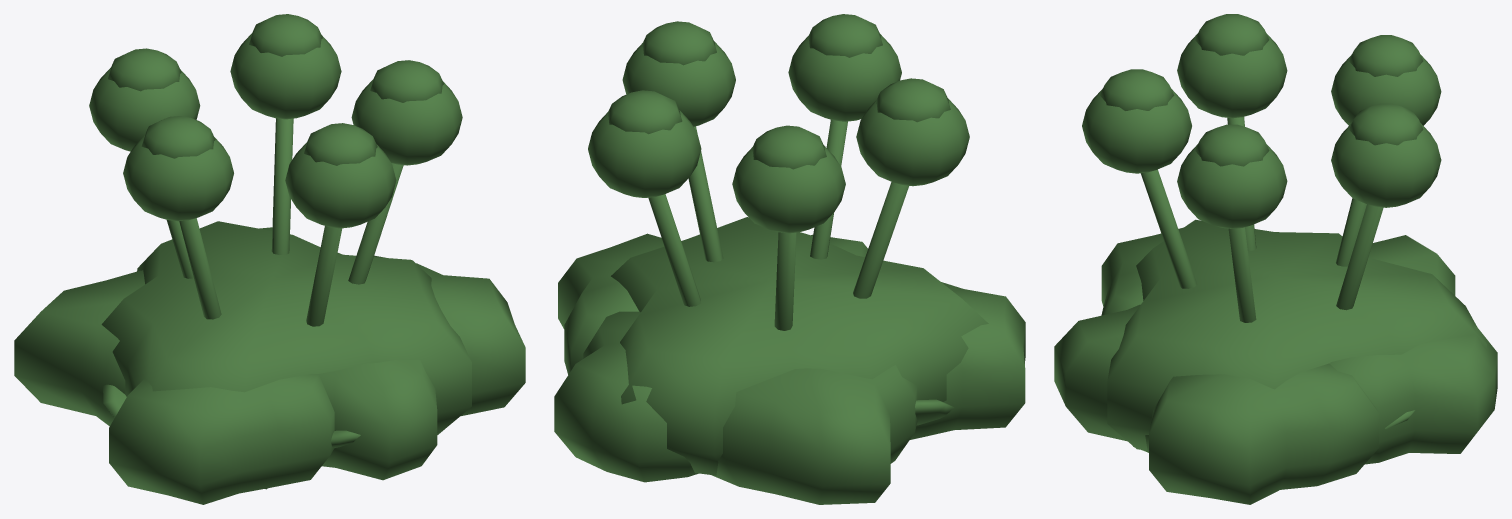
File: flowers_06.glb
3 views of the same model, side by side, from view 1: azimuth 30°, elevation 25°; view 2: azimuth 150°, elevation 25°; view 3: azimuth 270°, elevation 25° (orthographic). The views are drawn at different scales.
Parts seen in each view (by area): view 1: Tint, Ground foliage.024, Ground foliage.027, Ground foliage.028, Ground foliage.026, Ground foliage.025; view 2: Tint, Ground foliage.024, Ground foliage.028, Ground foliage.029, Ground foliage.027, Ground foliage.025, Rosette leaf.022; view 3: Tint, Ground foliage.024, Ground foliage.025, Ground foliage.029, Ground foliage.026, Ground foliage.027, Ground foliage.028.
Part boxes in pixels (left/top/right/bottom): Tint: left=89, top=14, right=462, bottom=326; Ground foliage.024: left=101, top=221, right=471, bottom=434; Ground foliage.027: left=109, top=374, right=334, bottom=504; Ground foliage.028: left=14, top=270, right=144, bottom=426; Ground foliage.026: left=318, top=359, right=437, bottom=480; Ground foliage.025: left=374, top=255, right=525, bottom=416; Tint: left=588, top=14, right=969, bottom=330; Ground foliage.024: left=611, top=217, right=988, bottom=475; Ground foliage.028: left=711, top=365, right=917, bottom=504; Ground foliage.029: left=554, top=311, right=698, bottom=482; Ground foliage.027: left=910, top=282, right=1025, bottom=439; Ground foliage.025: left=558, top=233, right=664, bottom=374; Rosette leaf.022: left=915, top=399, right=954, bottom=425; Tint: left=1082, top=14, right=1441, bottom=322; Ground foliage.024: left=1107, top=219, right=1486, bottom=450; Ground foliage.025: left=1149, top=363, right=1378, bottom=504; Ground foliage.029: left=1329, top=325, right=1497, bottom=464; Ground foliage.026: left=1054, top=304, right=1148, bottom=452; Ground foliage.027: left=1101, top=227, right=1183, bottom=315; Ground foliage.028: left=1368, top=235, right=1455, bottom=295.
Size of the model in its own units: 0.5 by 0.4036 by 0.4522.
